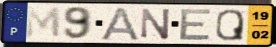9: (62, 6, 95, 41)
A: (97, 6, 141, 42)
E: (178, 8, 214, 41)
M: (25, 6, 62, 39)
N: (141, 7, 173, 41)
Q: (214, 8, 245, 42)
